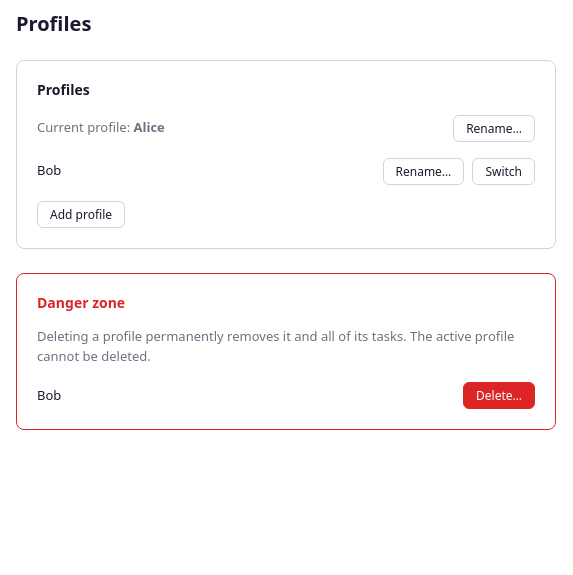
Test case: ProfilesView — rename › renames active profile successfully
The image size is (573, 575).
Click the button "Rename…" in the row of "Alice": (494, 128) [453,114,535,142]
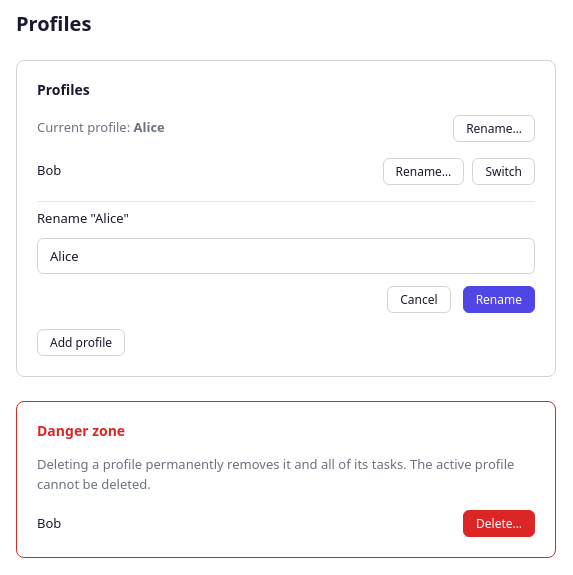
Check: the field named "New profile name" holds "Alice"
Replace the text in the field named "New profile name" with "Dana": (286, 256) [37,238,535,274]
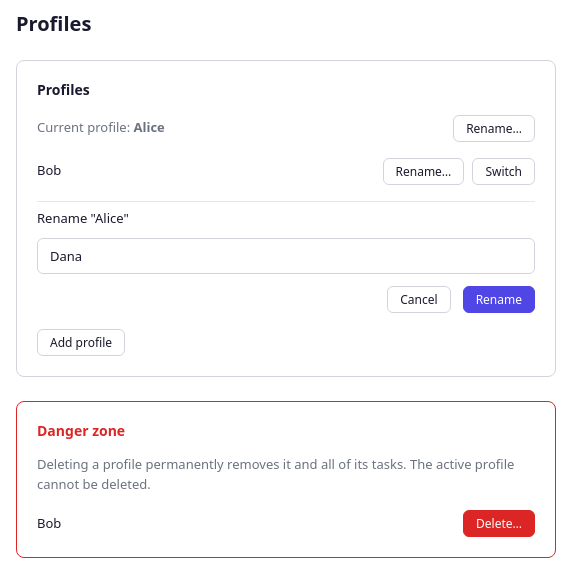
Submit the form named "New profile name", box [37,200,535,313]
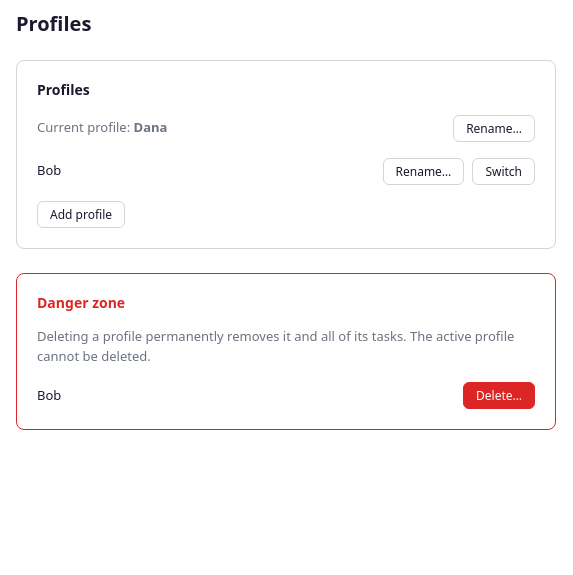
Check: the text "Dana" is shown, box [134,118,167,136]
